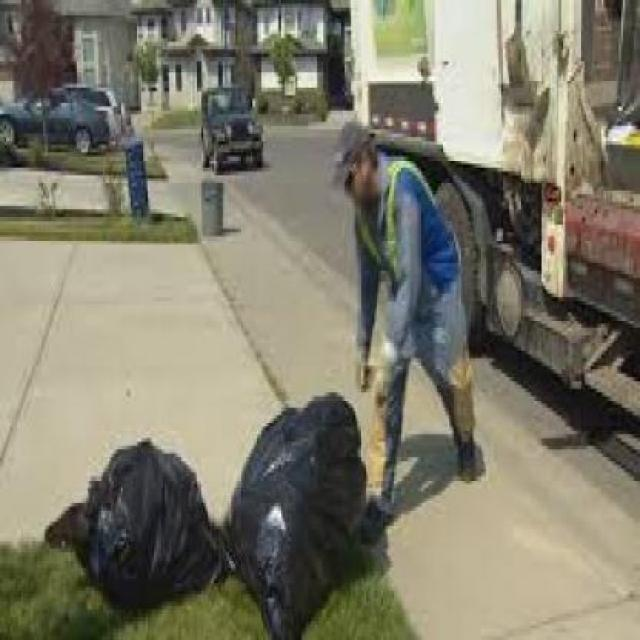garbage: (49, 369, 394, 636)
